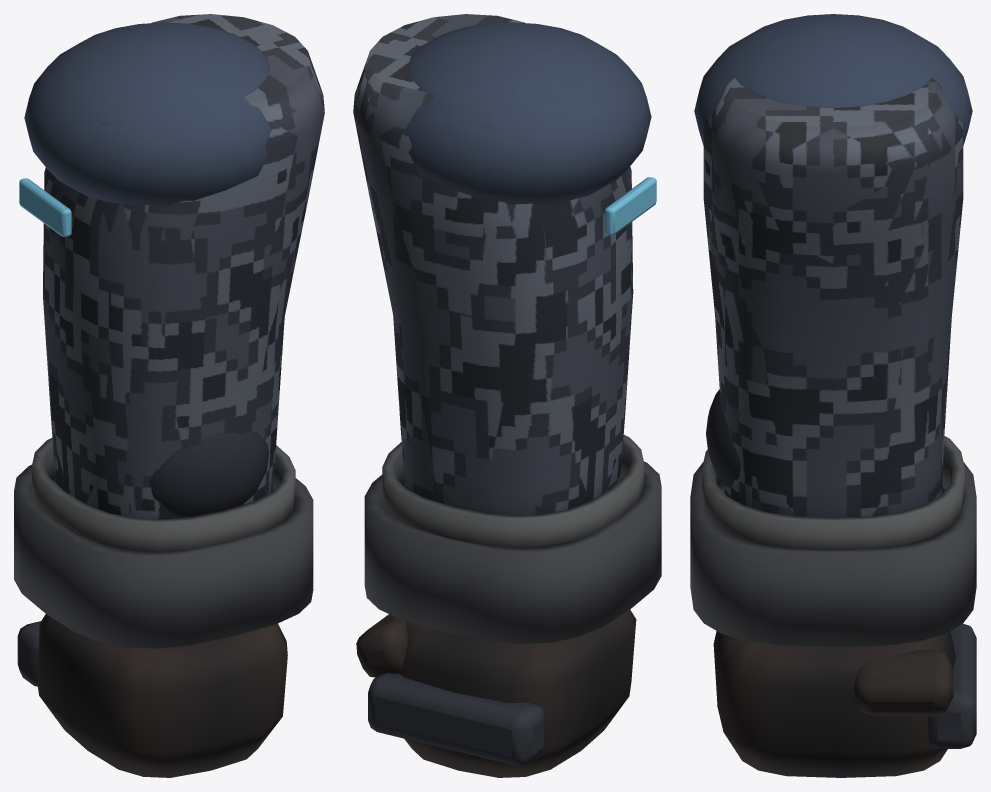
The model's file is Bravo_Arm_L.glb.
3 views of the same model, side by side, from view 1: azimuth 30°, elevation 25°; view 2: azimuth 150°, elevation 25°; view 3: azimuth 270°, elevation 25° (orthographic). The views are drawn at different scales.
Visible parts, largest first — view 1: Bravo_Arm_L_body; view 2: Bravo_Arm_L_body; view 3: Bravo_Arm_L_body.
Part boxes in pixels (x1=…): Bravo_Arm_L_body: x1=14, y1=14, x2=324, y2=777; Bravo_Arm_L_body: x1=353, y1=14, x2=661, y2=777; Bravo_Arm_L_body: x1=690, y1=14, x2=976, y2=777.
Size of the model in its own units: 0.805 by 2.02 by 0.74.
Materials: 1 (1 with a texture image).
